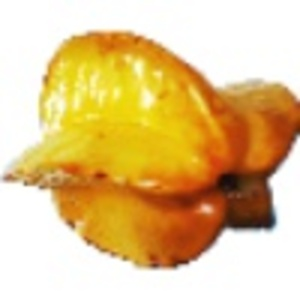carambola: (2, 29, 300, 272)
